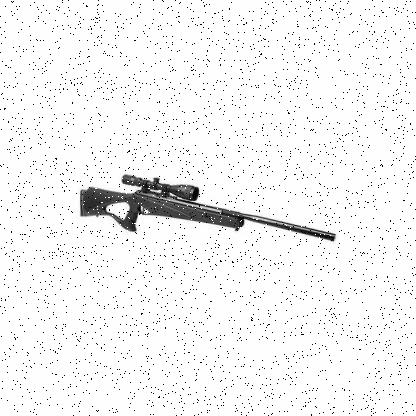rifle: (71, 157, 346, 274)
